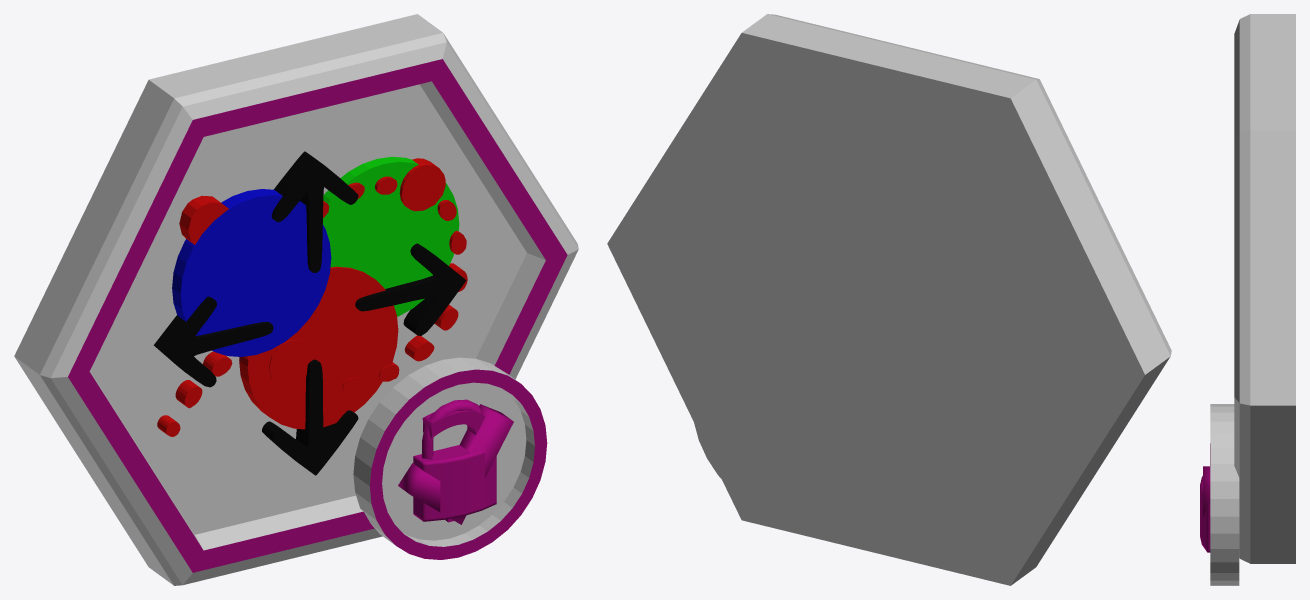
Rendered from planar_random.dae.
3 renders of one model, left to right at view 1: azimuth 30°, elevation 25°; view 2: azimuth 150°, elevation 25°; view 3: azimuth 270°, elevation 25°, orthographic. The views are drawn at different scales.
Parts seen in each view (by area): view 1: node, kColor, Hamiltonian, Lock, Checkmark; view 2: node; view 3: node, Lock, Checkmark.
Part boxes in pixels (<box>): node: <box>14,14,578,585</box>; kColor: <box>172,156,459,429</box>; Hamiltonian: <box>157,158,467,436</box>; Lock: <box>413,399,496,521</box>; Checkmark: <box>398,404,513,524</box>; node: <box>607,14,1171,585</box>; node: <box>1210,14,1295,585</box>; Lock: <box>1200,443,1210,552</box>; Checkmark: <box>1203,466,1210,518</box>.
Size of the model in its own units: 2 by 0.3477 by 1.8.
